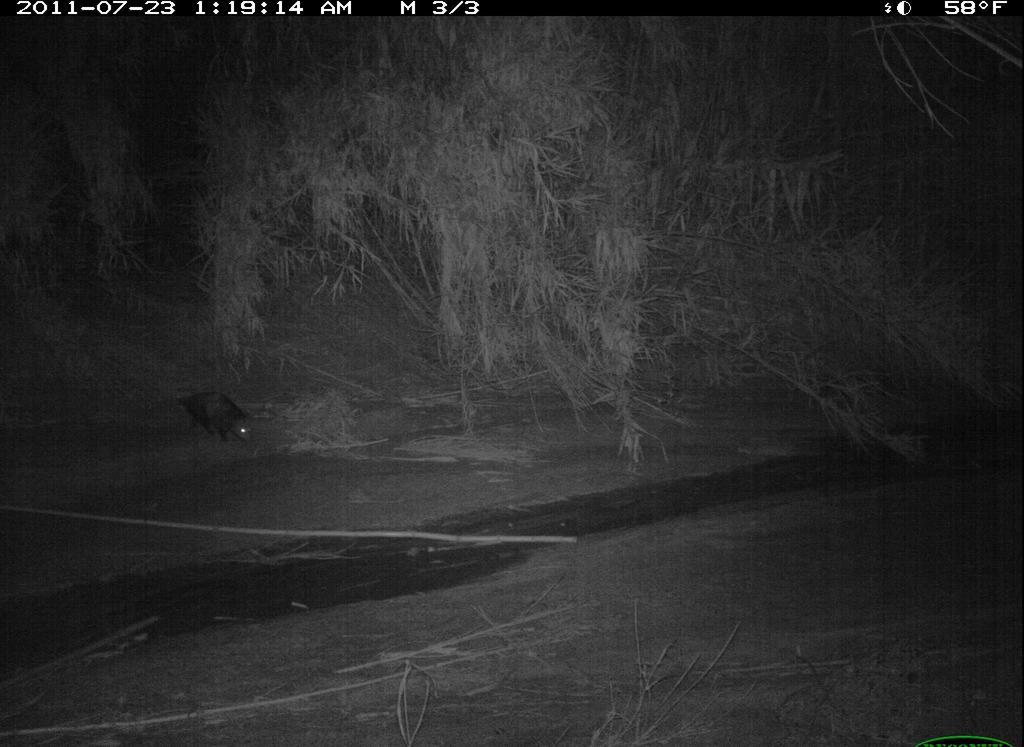opossum: (162, 379, 262, 457)
